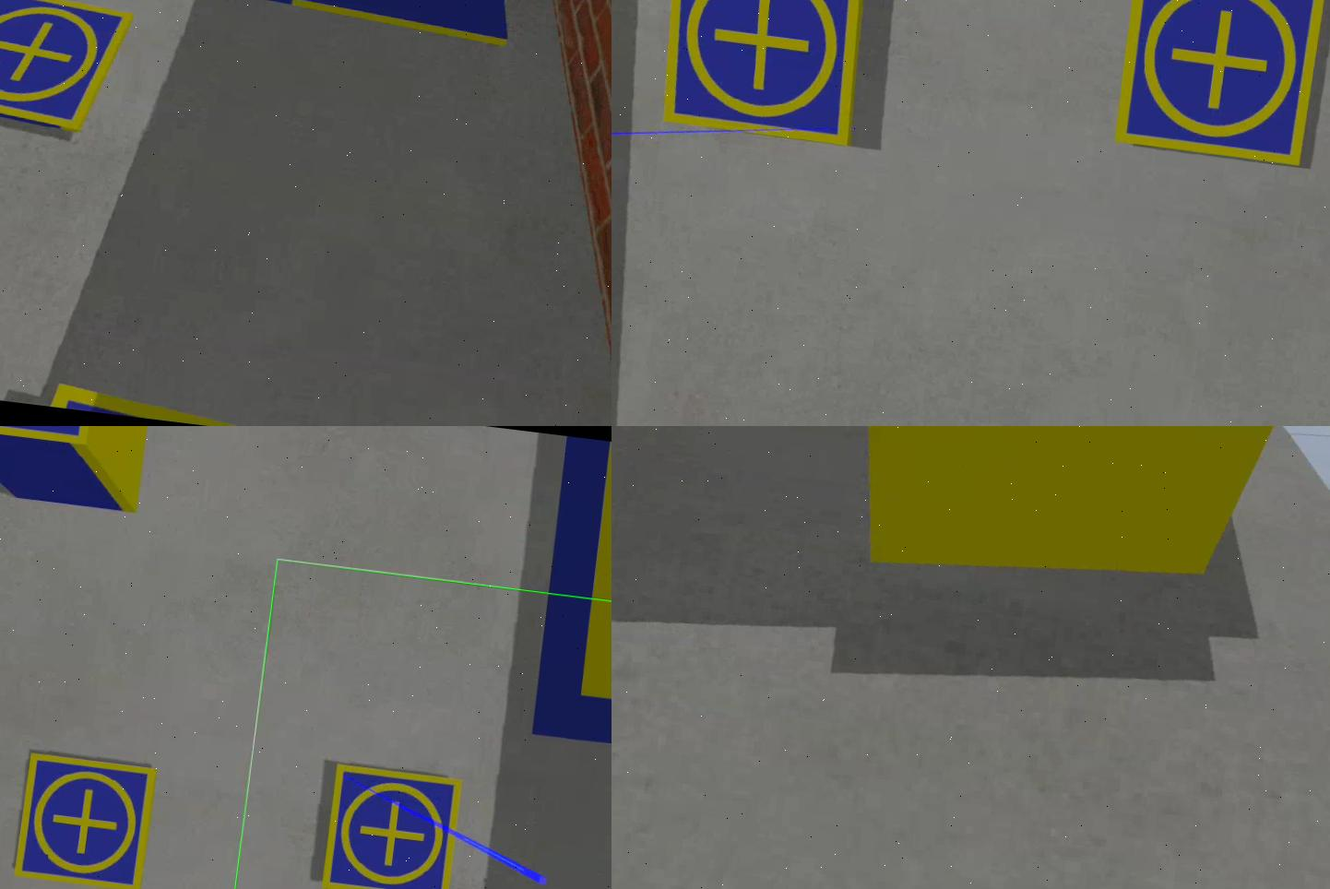large_base: (529, 436, 612, 772)
small_base: (1113, 1, 1330, 166), (649, 1, 877, 150), (1, 1, 140, 143), (14, 753, 156, 889), (319, 763, 461, 889), (1, 427, 95, 448)
